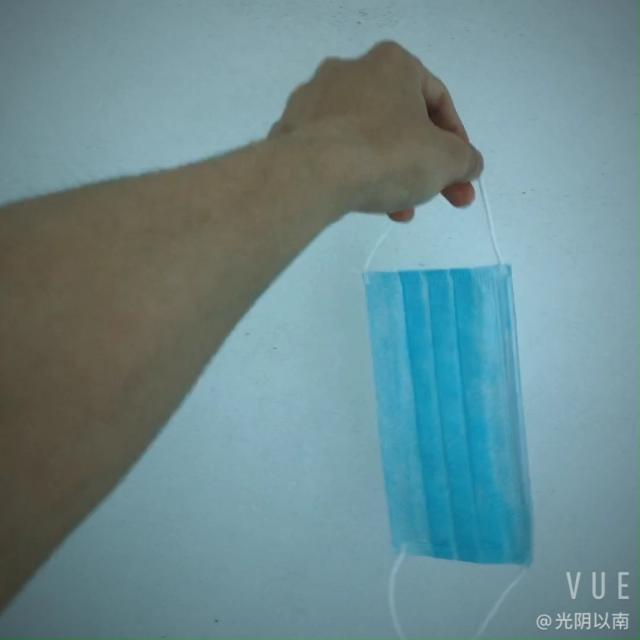non-organic waste: (366, 250, 558, 580)
